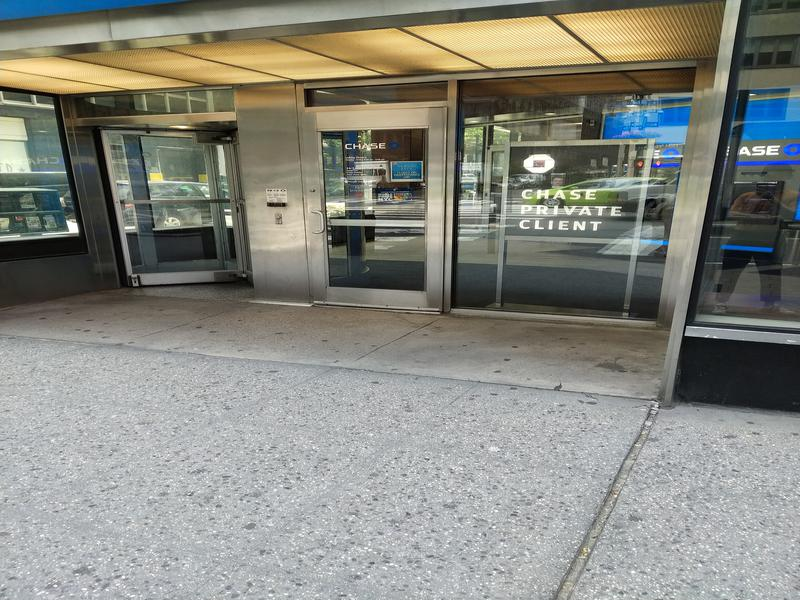door: (301, 106, 449, 318)
revolving_door: (89, 114, 260, 295)
